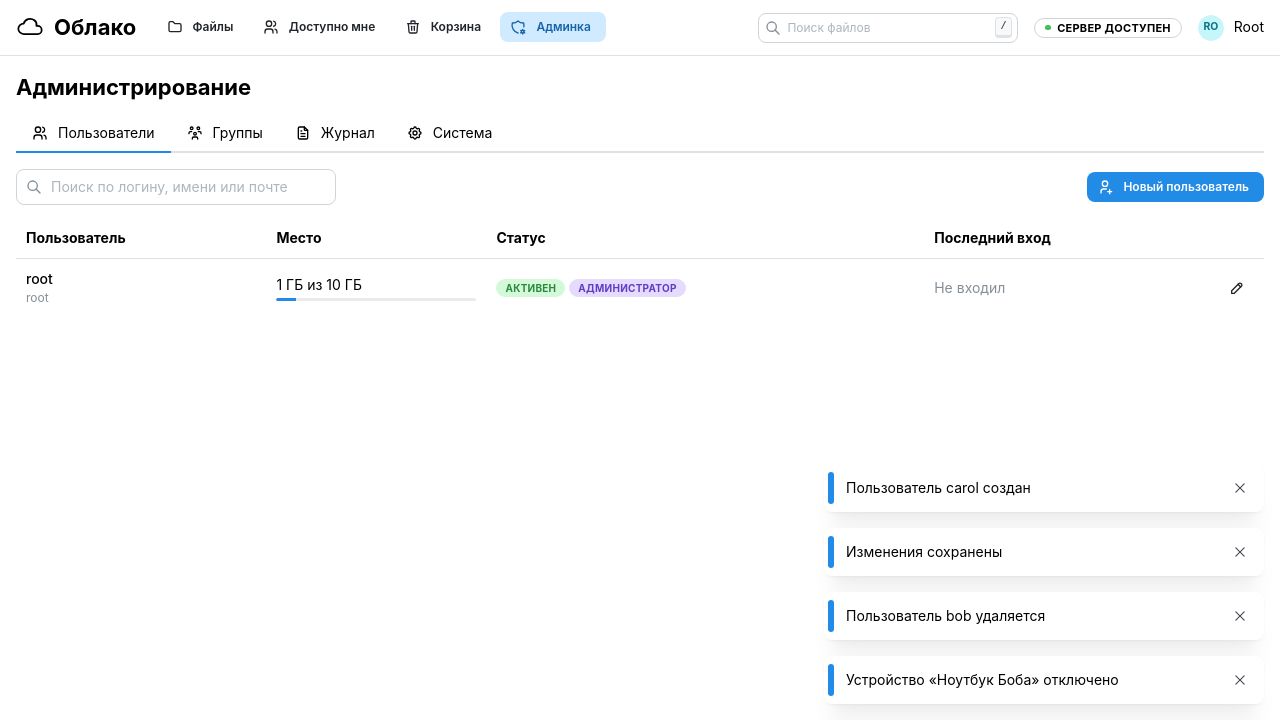
it: AdminPage › keeps an admin from locking themselves out
What coordinates should you click on to do the following:
click the button named "Изменить root"
I would click on:
 (1237, 288)
Its box is [1220,275,1254,301].
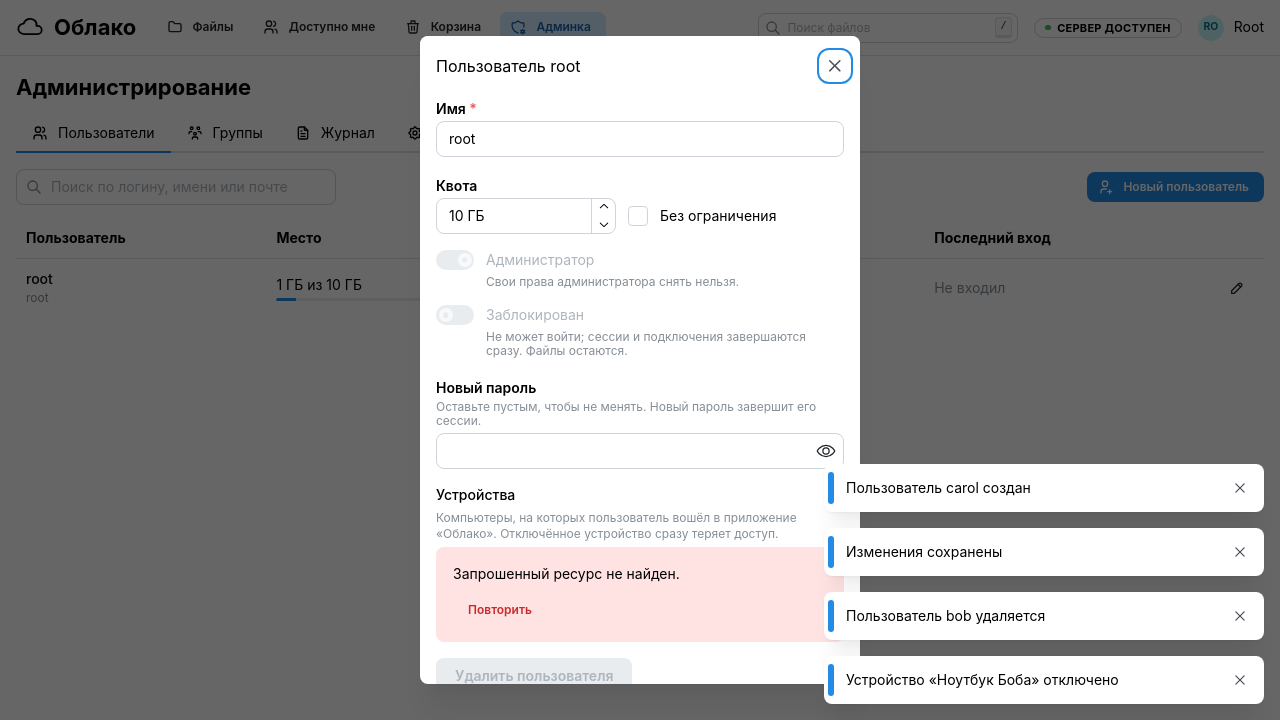
Check: the switch labelled "Администратор Свои права администратора снять нельзя." is disabled, box [436,250,739,289]
Check: the switch labelled "Заблокирован" is disabled, box [436,305,844,359]
Check: the button "Удалить пользователя" is disabled, box [436,658,632,684]
